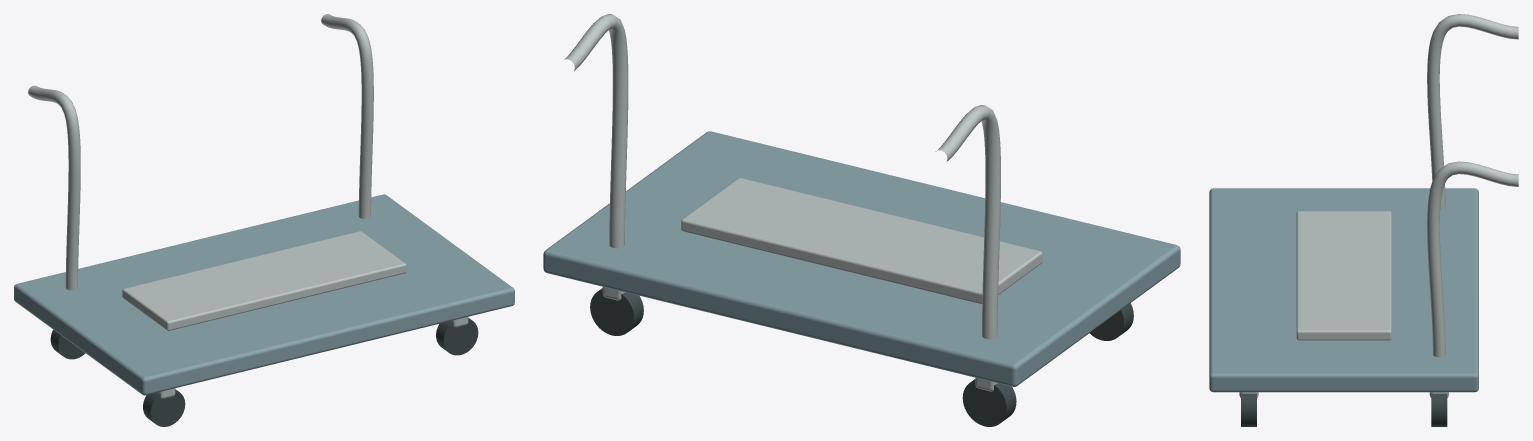
The model's file is abandoned-tidal-model-testing-hall-movable-fan-platfor-51f2b9c5__32363.glb.
3 renders of one model, left to right at view 1: azimuth 30°, elevation 25°; view 2: azimuth 150°, elevation 25°; view 3: azimuth 270°, elevation 25°, orthographic. The views are drawn at different scales.
Visible parts, largest first — view 1: movable-fan-platform; view 2: movable-fan-platform; view 3: movable-fan-platform.
Boxes of the visible parts, x1=… form: movable-fan-platform: x1=14, y1=14, x2=514, y2=426; movable-fan-platform: x1=543, y1=14, x2=1180, y2=426; movable-fan-platform: x1=1209, y1=14, x2=1518, y2=426.
Size of the model in its own units: 1.4 by 0.9152 by 0.975.
